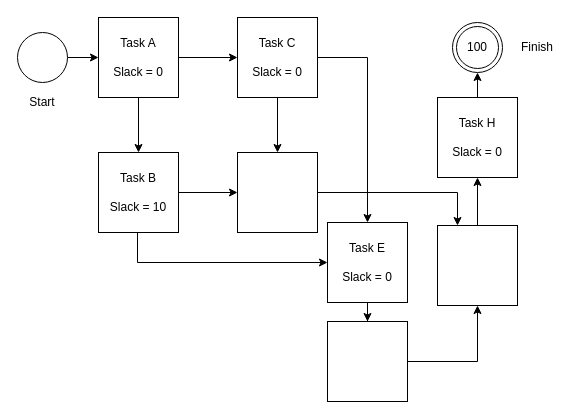
Some shapes in this 575 by 419 pixel diagram are drawn without their labels. Here are the shapes that lost their labels. From the top down, the box of each, then its label:
(236, 152, 318, 232): Task D Slack = 30
(436, 224, 518, 306): Task G Slack = 0
(326, 320, 408, 402): Task F Slack = 0
